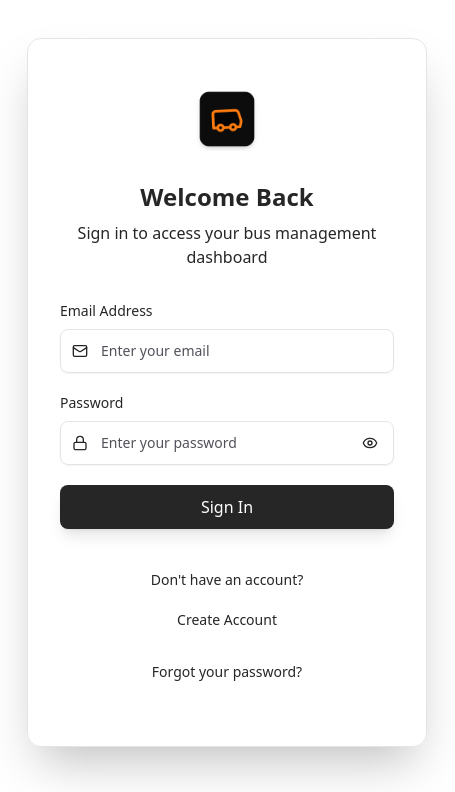
Test: AuthForm › toggles to signup form
Click the Create Account button in the footer
Click the button "Create Account".
click(227, 620)  # box [161,602,293,638]
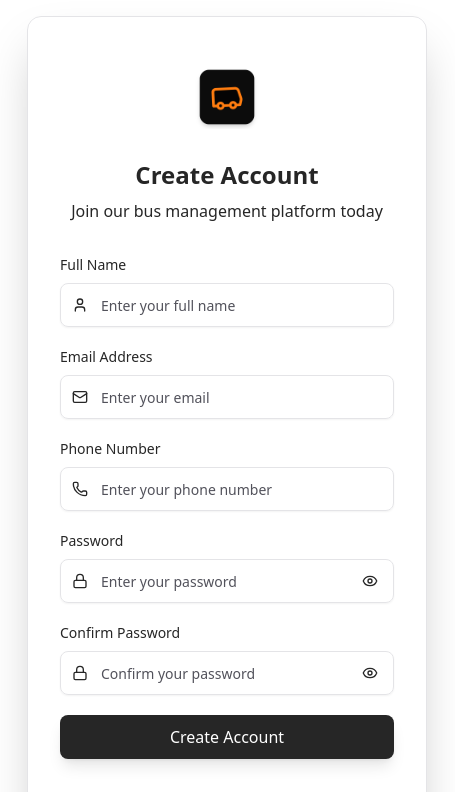
Check: the text with test id "auth-form-title" reads "Create Account", box [135,158,319,191]
Check: the field labelled "Full Name" is shown, box [60,283,394,327]
Check: the field labelled "Phone Number" is shown, box [60,467,394,511]
